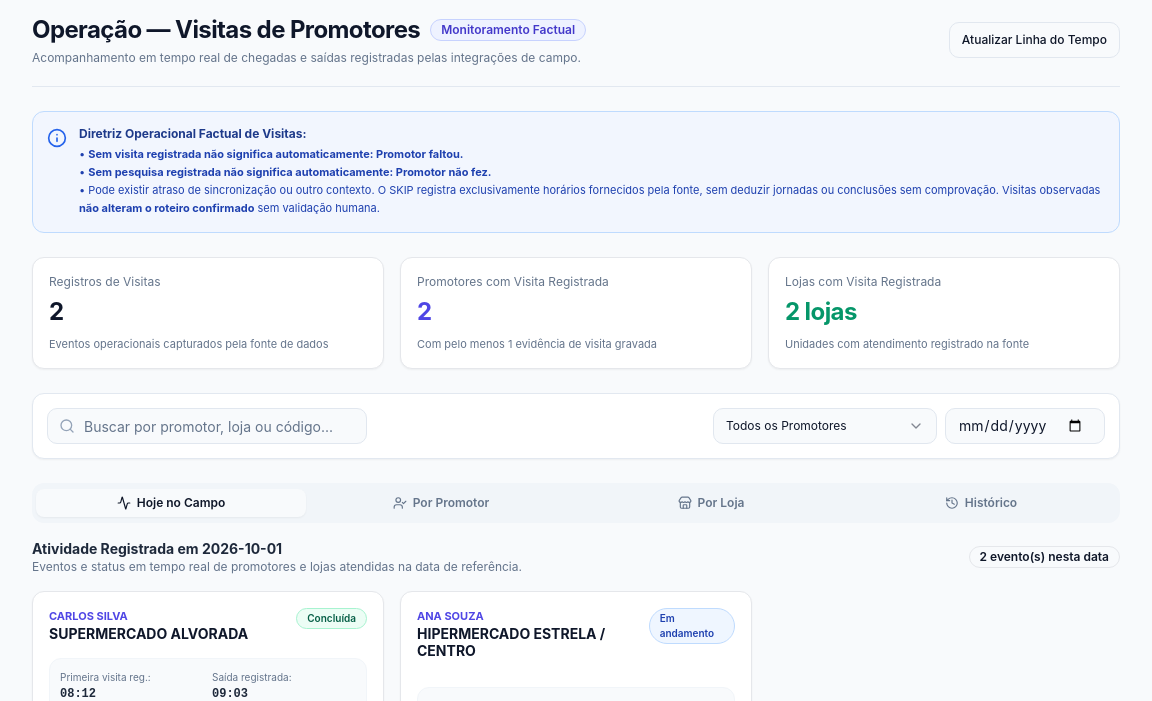
Test: VisitasPage — Item 4 Parte 2: Visões de Monitoramento e Diretrizes Factuais › 5. Perspectiva "Histórico": exibe tabela paginada com Primeiro Registro e Sem saída reg.
Note: Clica na aba Histórico
Click the tab "Histórico": click(981, 503) [846,489,1116,517]
(page scrolled)
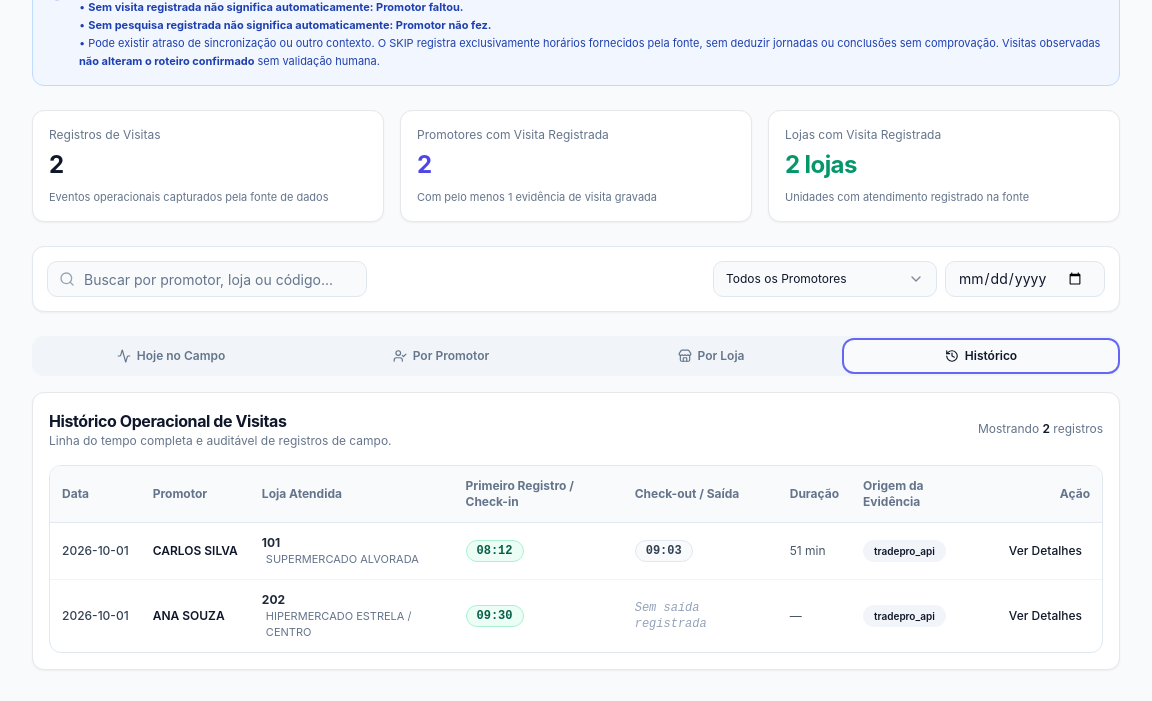
Check: the text "08:12" is shown, box [466,540,524,562]
Check: the text "Histórico Operacional de Visitas" is shown, box [49,411,286,431]
Check: the text "Sem saída registrada" is shown, box [635,601,707,631]
